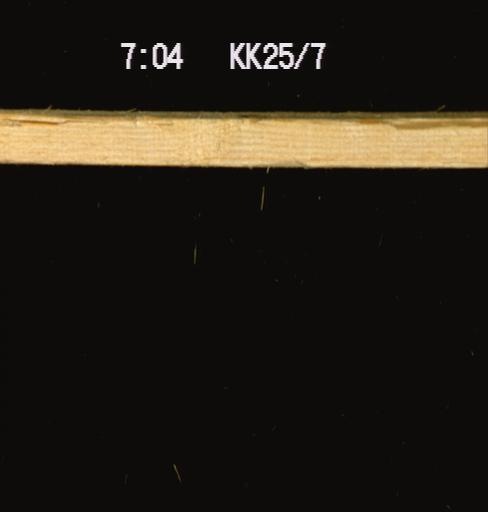split: (0, 109, 131, 132)
wave: (357, 110, 485, 134)
